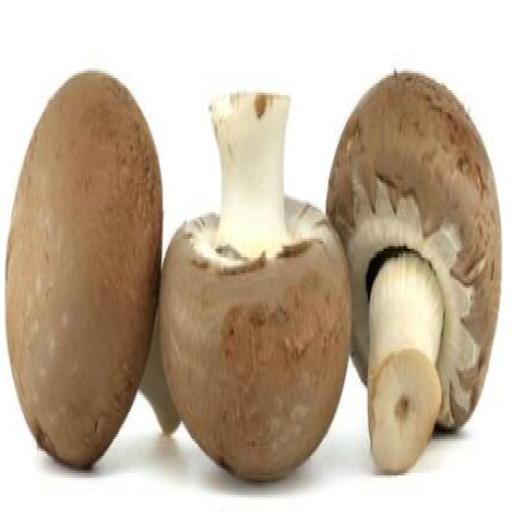Button Mushroom: (326, 34, 503, 482), (160, 81, 354, 485), (5, 76, 185, 477)
